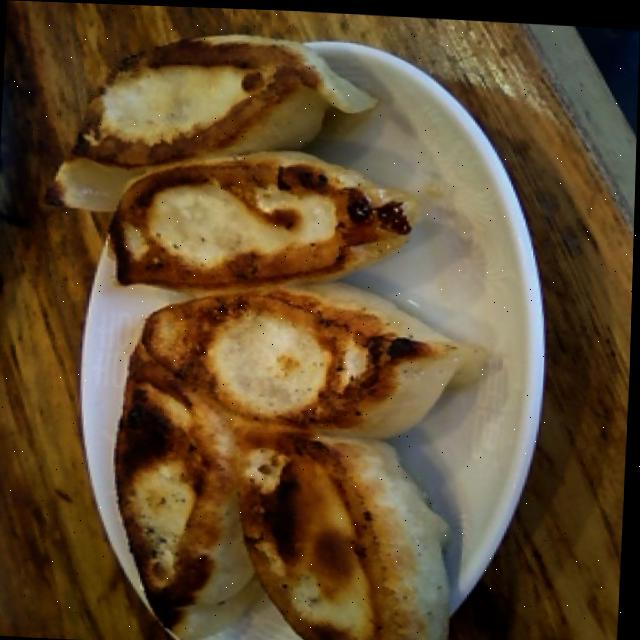带馅早点: (29, 29, 506, 640)
